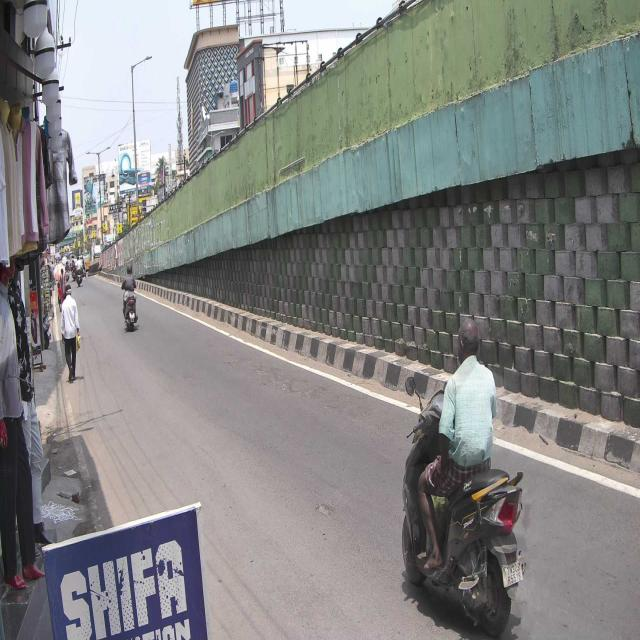single_rider: (400, 315, 524, 640)
